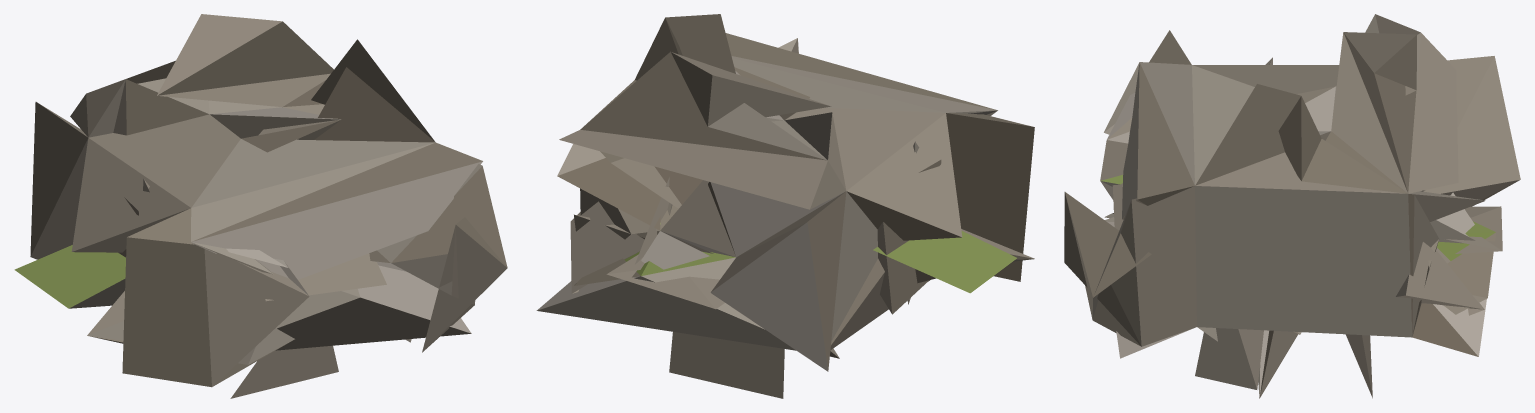
File: ChunkGranite_d.fbx
The picture shows the model from 3 angles, left to right: view 1: azimuth 30°, elevation 25°; view 2: azimuth 150°, elevation 25°; view 3: azimuth 270°, elevation 25°; orthographic projection. The views are drawn at different scales.
Visible parts, largest first — view 1: ChunkGranite_d; view 2: ChunkGranite_d; view 3: ChunkGranite_d.
Part boxes in pixels (x1,y1,x2,y2): ChunkGranite_d: (14,14,507,398); ChunkGranite_d: (536,14,1034,398); ChunkGranite_d: (1064,14,1520,398).
Size of what is drawn, in the model's own units: 0.4703 by 0.3869 by 0.4814.
